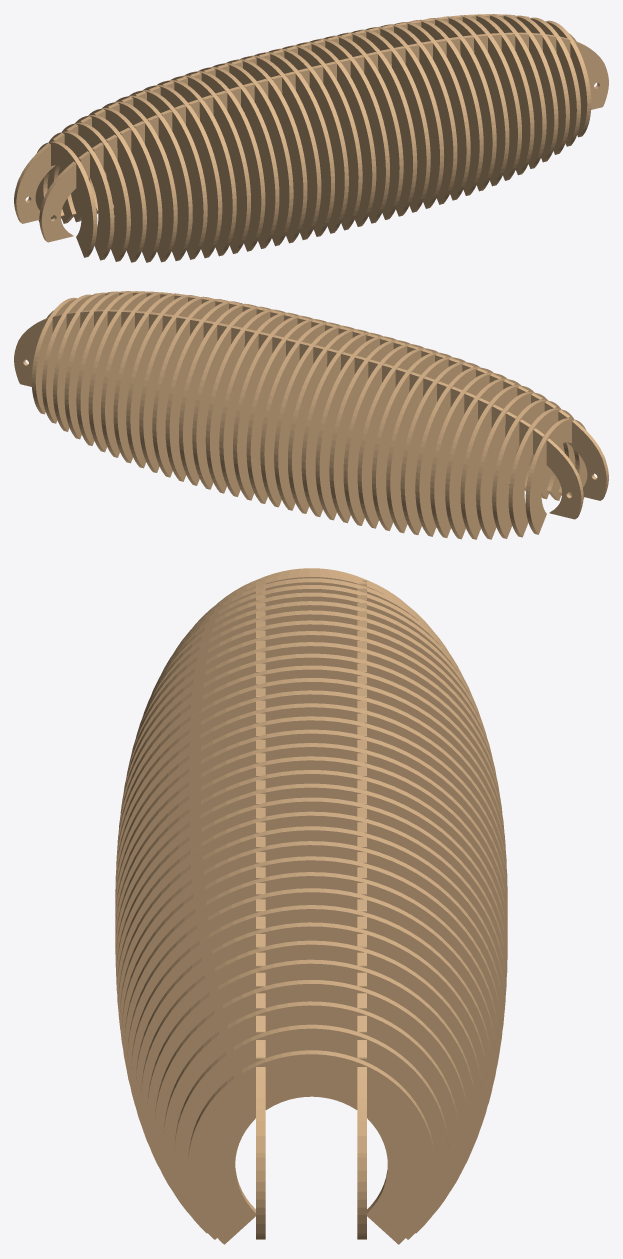
Rendered from samla.glb.
3 views of the same model, one above another, from view 1: azimuth 30°, elevation 25°; view 2: azimuth 150°, elevation 25°; view 3: azimuth 270°, elevation 25° (orthographic). The views are drawn at different scales.
Parts seen in each view (by area): view 1: slicer-belgarbeid; view 2: slicer-belgarbeid; view 3: slicer-belgarbeid.
Part boxes in pixels (left/top/right/bottom): slicer-belgarbeid: left=14, top=14, right=608, bottom=262; slicer-belgarbeid: left=14, top=291, right=608, bottom=539; slicer-belgarbeid: left=115, top=568, right=507, bottom=1244.
Bounding box in the file's own units: 0.4135 × 0.1057 × 0.1239.
